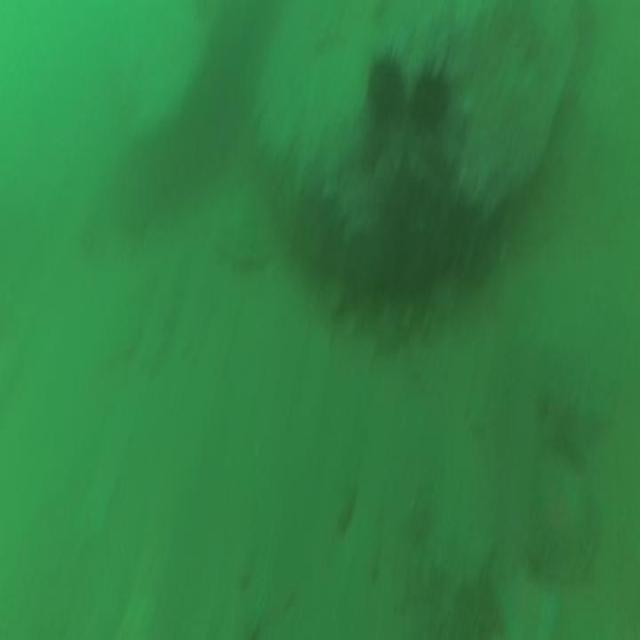echinus: (359, 42, 408, 130), (409, 50, 453, 144)
starfish: (544, 370, 606, 482)
